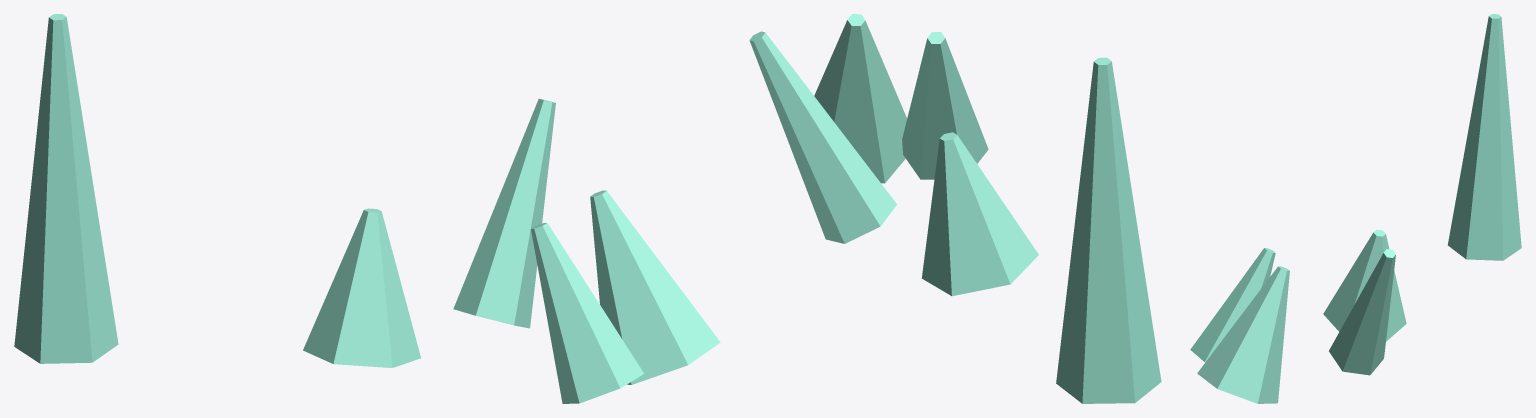
Rendered from alien__shards.fbx.
The picture shows the model from 3 angles, left to right: view 1: azimuth 30°, elevation 25°; view 2: azimuth 150°, elevation 25°; view 3: azimuth 270°, elevation 25°; orthographic projection. The views are drawn at different scales.
Visible parts, largest first — view 1: alien__shards; view 2: alien__shards; view 3: alien__shards.
Part boxes in pixels (x1,y1,x2,y2): alien__shards: (14, 14, 720, 403); alien__shards: (749, 14, 1161, 403); alien__shards: (1190, 14, 1521, 403).
Size of the model in its own units: 1.32 by 0.8314 by 1.04.
